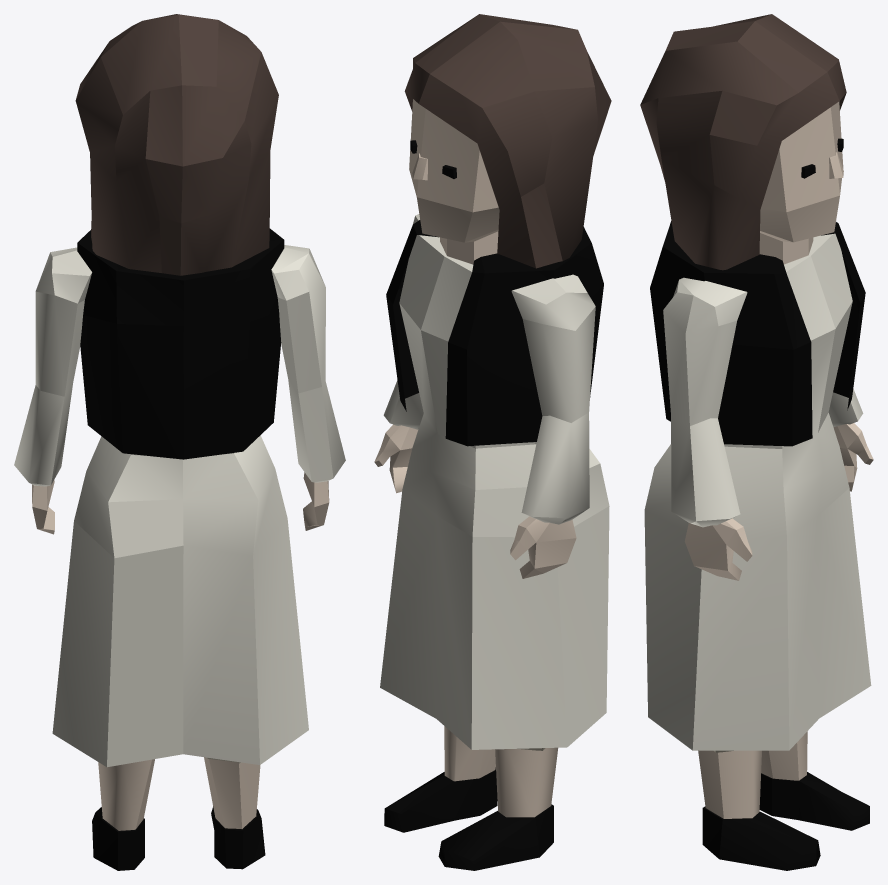
The model's file is kadın köy.fbx.
3 renders of one model, left to right at view 1: azimuth 30°, elevation 25°; view 2: azimuth 150°, elevation 25°; view 3: azimuth 270°, elevation 25°, orthographic. The views are drawn at different scales.
Parts seen in each view (by area): view 1: Model; view 2: Model; view 3: Model.
Boxes of the visible parts, box(x1,y1,x2,y2) form: Model: box(14, 14, 345, 870); Model: box(374, 14, 611, 870); Model: box(640, 14, 873, 870).
Size of the model in its own units: 19.29 by 60.23 by 15.81.
